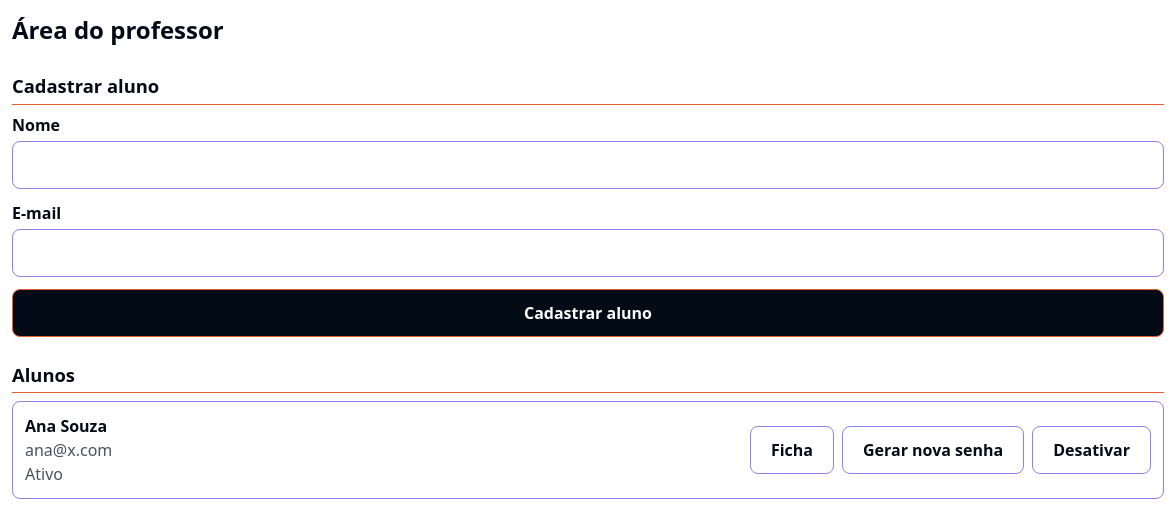
Test: AreaProfessor › desativa o aluno e atualiza a lista
Check: the list item shows "Ativo", box x1=25 y1=463 x2=63 y2=485
Click the button "Desativar" at (1092, 450), box x1=1032 y1=426 x2=1151 y2=474
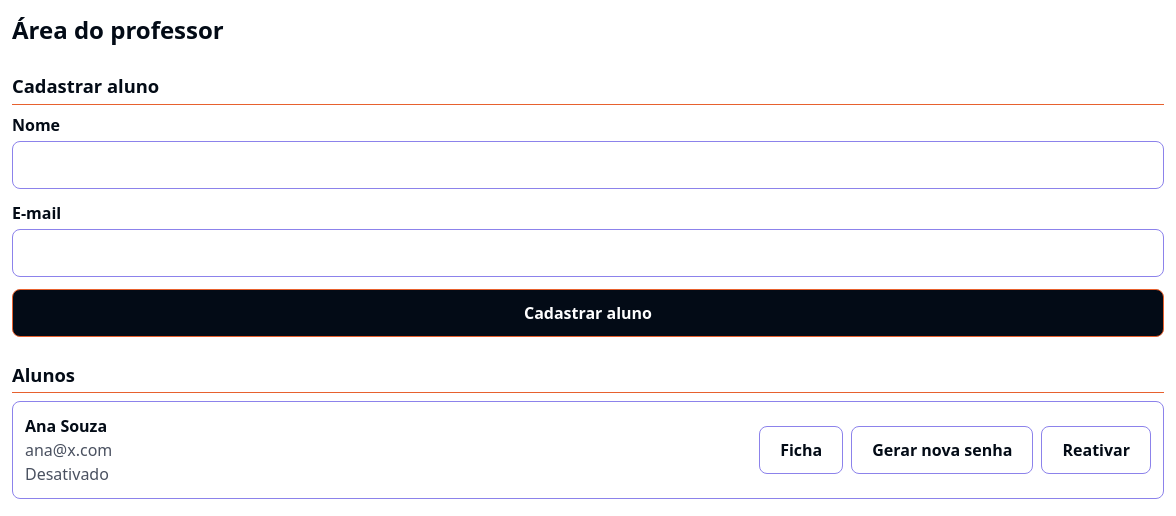
Check: the text "Desativado" is shown, box x1=25 y1=462 x2=112 y2=486
Check: the button "Reativar" is shown, box x1=1042 y1=426 x2=1151 y2=474
